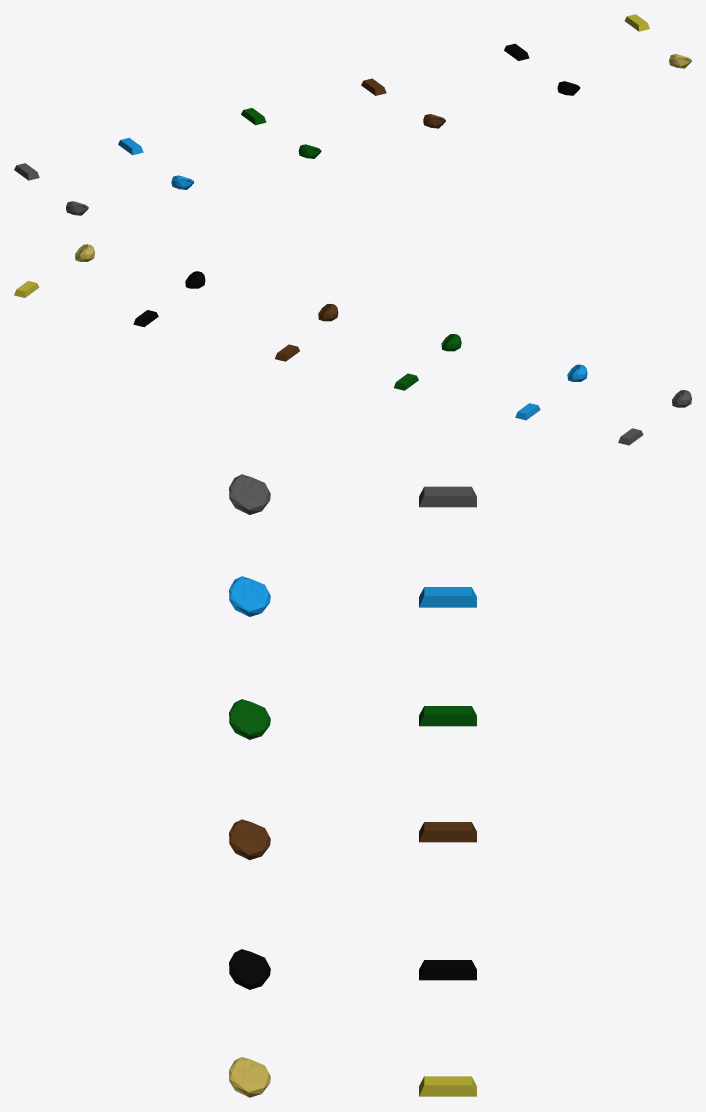
Rendered from madenmodel2.fbx.
3 views of the same model, one above another, from view 1: azimuth 30°, elevation 25°; view 2: azimuth 150°, elevation 25°; view 3: azimuth 270°, elevation 25° (orthographic). The views are drawn at different scales.
Visible parts, largest first — view 1: no part large enough to name; view 2: no part large enough to name; view 3: demırparca, komurparca, zumrutparca, elmasparca, altınparca, tasparca, taskulce, demırkulce, zumrutkulce, komurkulce, elmaskulce, altınkulce.
Part boxes in pixels (box(x1,y1,x2,y2)): demırparca: box(229, 819, 270, 860); komurparca: box(229, 949, 270, 989); zumrutparca: box(229, 699, 270, 739); elmasparca: box(229, 576, 270, 616); altınparca: box(229, 1057, 270, 1097); tasparca: box(229, 474, 270, 514); taskulce: box(419, 486, 476, 507); demırkulce: box(419, 822, 476, 842); zumrutkulce: box(419, 706, 476, 726); komurkulce: box(419, 960, 476, 980); elmaskulce: box(419, 587, 476, 607); altınkulce: box(419, 1076, 476, 1096).
Size of the model in its own units: 1068 by 25.27 by 185.
